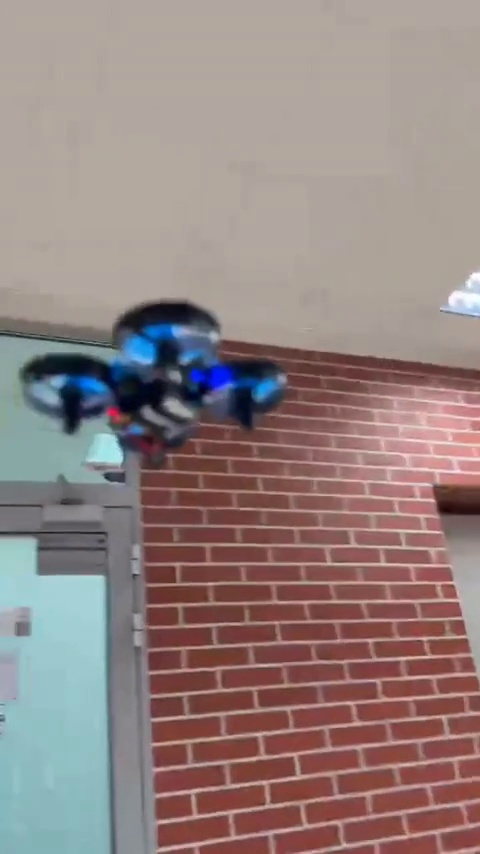drone: (23, 297, 289, 464)
